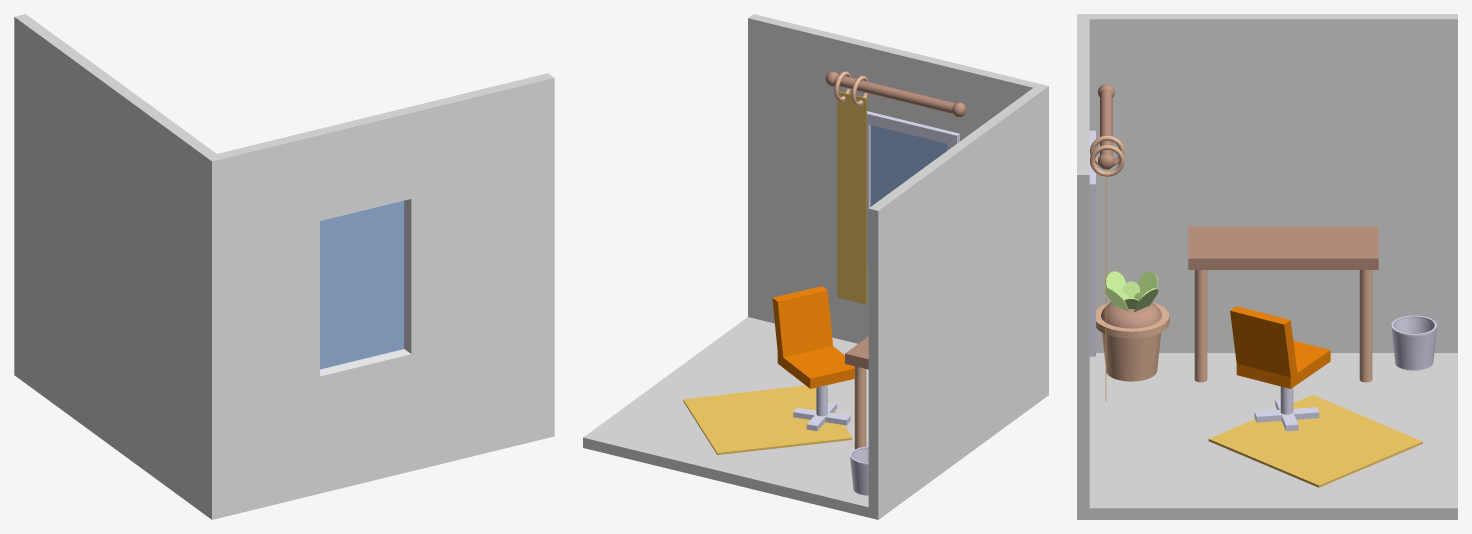
File: room.glb
3 renders of one model, left to right at view 1: azimuth 30°, elevation 25°; view 2: azimuth 150°, elevation 25°; view 3: azimuth 270°, elevation 25°, orthographic. The views are drawn at different scales.
Visible parts, largest first — view 1: room; view 2: room; view 3: room.
Boxes of the visible parts, x1=… form: room: x1=14, y1=14, x2=554, y2=519; room: x1=583, y1=14, x2=1048, y2=519; room: x1=1077, y1=14, x2=1457, y2=519.
Bounding box in the file's own units: 300 × 300 × 300.
